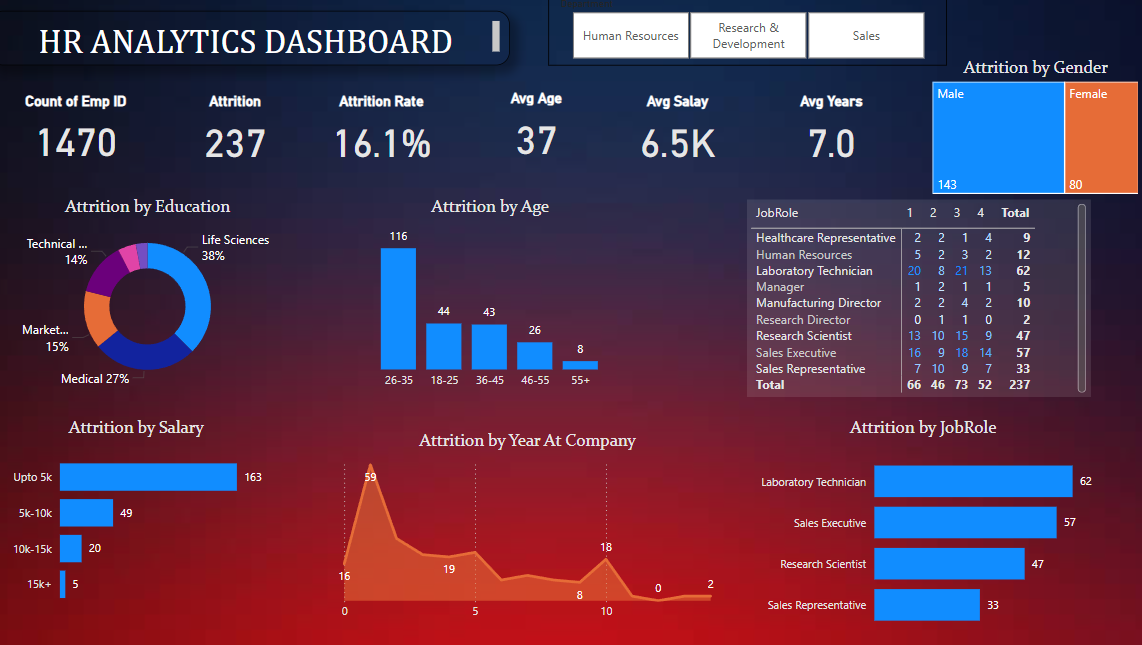

The page's visual inventory and layout, read from the dashboard file:
{"tool":"powerbi","page":{"name":"Page 1","canvas":[1280,720],"ordinal":0},"visuals":[{"type":"card","title":"Count of Emp ID","fields":{"Values":["Count(Worksheet.EmpID)"]},"box":[42.5,111.1,133.1,82.3],"z":0},{"type":"card","title":"Attrition","fields":{"Values":["Sum(Worksheet.AttritionCount)"]},"box":[219.6,111.1,127.6,82.3],"z":1000},{"type":"card","title":"Attrition Rate","fields":{"Values":["Worksheet.AttritionRate"]},"box":[371.9,111.1,144.1,82.3],"z":2000},{"type":"card","title":"Avg Age","fields":{"Values":["Avg(Worksheet.Age)"]},"box":[546.1,107,135.8,82.3],"z":3000},{"type":"card","title":"Avg Salay","fields":{"Values":["Avg(Worksheet.MonthlyIncome)"]},"box":[708.1,111.1,122.1,82.3],"z":4000},{"type":"card","title":"Avg Years","fields":{"Values":["Avg(Worksheet.YearsAtCompany)"]},"box":[876.8,111.1,122.1,82.3],"z":5000},{"type":"donutChart","title":"Attrition by Education","fields":{"Category":["Worksheet.EducationField"],"Y":["Sum(Worksheet.AttritionCount)"]},"box":[42.5,223.7,289.5,220.9],"z":6000},{"type":"columnChart","title":"Attrition by Age","fields":{"Category":["Worksheet.AgeGroup"],"Y":["Sum(Worksheet.AttritionCount)"]},"box":[418.5,223.7,289.5,220.9],"z":7000},{"type":"pivotTable","fields":{"Rows":["Worksheet.JobRole"],"Columns":["Worksheet.JobSatisfaction"],"Values":["Sum(Worksheet.AttritionCount)"]},"box":[845.3,227.8,377.4,216.8],"z":8000},{"type":"clusteredBarChart","title":"Attrition by Salary","fields":{"Category":["Worksheet.SalarySlab"],"Y":["Sum(Worksheet.AttritionCount)"]},"box":[30.2,466.6,289.5,220.9],"z":9000},{"type":"clusteredBarChart","title":"Attrition by JobRole","fields":{"Y":["Sum(Worksheet.AttritionCount)"],"Category":["Worksheet.JobRole"]},"box":[845.3,466.6,387,248.4],"z":10000},{"type":"areaChart","title":"Attrition by Year At Company","fields":{"Category":["Worksheet.YearsAtCompany"],"Y":["Sum(Worksheet.AttritionCount)"]},"box":[388.3,480.3,432.2,218.2],"z":11000},{"type":"treemap","title":"Attrition by Gender","fields":{"Group":["Worksheet.Gender"],"Values":["Sum(Worksheet.AttritionCount)"]},"box":[1044.3,71.4,236,155.1],"z":12000},{"type":"slicer","fields":{"Values":["Worksheet.Department"]},"box":[627.1,0,437.7,81],"z":13000},{"type":"textbox","box":[23.3,0,581.8,81],"z":14000}]}

Visuals, with their boxes in screenshot pixels (x1, y1, x2, y2), scaled from the page's 1280x720 canvas onto the 1142x645 screenshot:
"Count of Emp ID" card: <region>38, 100, 157, 173</region>
"Attrition" card: <region>196, 100, 310, 173</region>
"Attrition Rate" card: <region>332, 100, 460, 173</region>
"Avg Age" card: <region>487, 96, 608, 170</region>
"Avg Salay" card: <region>632, 100, 741, 173</region>
"Avg Years" card: <region>782, 100, 891, 173</region>
"Attrition by Education" donutChart: <region>38, 200, 296, 398</region>
"Attrition by Age" columnChart: <region>373, 200, 632, 398</region>
pivotTable - Worksheet.JobRole x Worksheet.JobSatisfaction: <region>754, 204, 1091, 398</region>
"Attrition by Salary" clusteredBarChart: <region>27, 418, 285, 616</region>
"Attrition by JobRole" clusteredBarChart: <region>754, 418, 1099, 641</region>
"Attrition by Year At Company" areaChart: <region>346, 430, 732, 626</region>
"Attrition by Gender" treemap: <region>932, 64, 1141, 203</region>
slicer - Worksheet.Department: <region>559, 0, 950, 73</region>
textbox: <region>21, 0, 540, 73</region>
